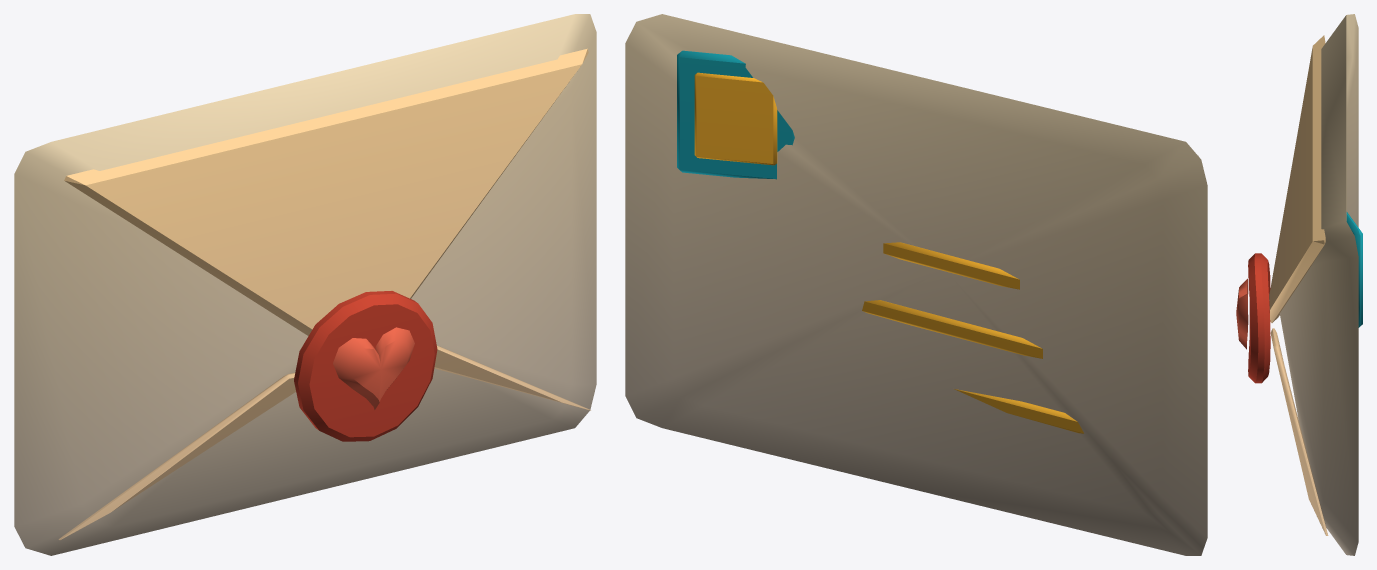
Rendered from letter.glb.
3 renders of one model, left to right at view 1: azimuth 30°, elevation 25°; view 2: azimuth 150°, elevation 25°; view 3: azimuth 270°, elevation 25°, orthographic. The views are drawn at different scales.
Parts seen in each view (by area): view 1: letter; view 2: letter; view 3: letter.
Boxes of the visible parts, <box> form: letter: <box>14,14,596,555</box>; letter: <box>625,14,1207,555</box>; letter: <box>1236,14,1362,555</box>.
Bounding box in the file's own units: 0.5 × 0.34 × 0.1169.
